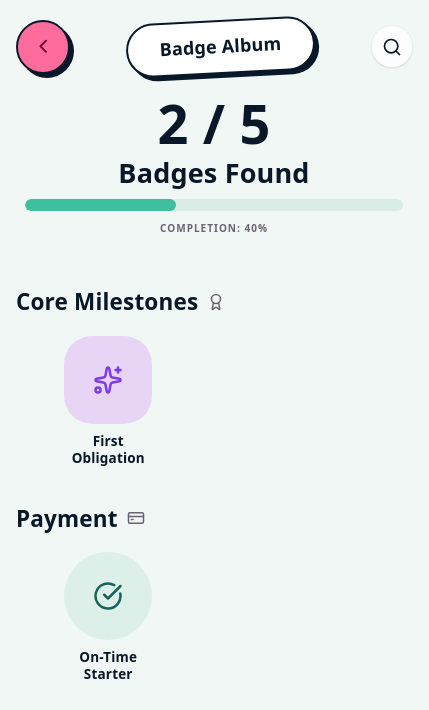
Test: StickerAlbumPage integration › navigates to detail page and renders badge name when an earned badge is tapped
The image size is (429, 710).
Click the button with aria-label "first obligation sticker, tap to view".
click(108, 401)  # box [64, 336, 152, 467]
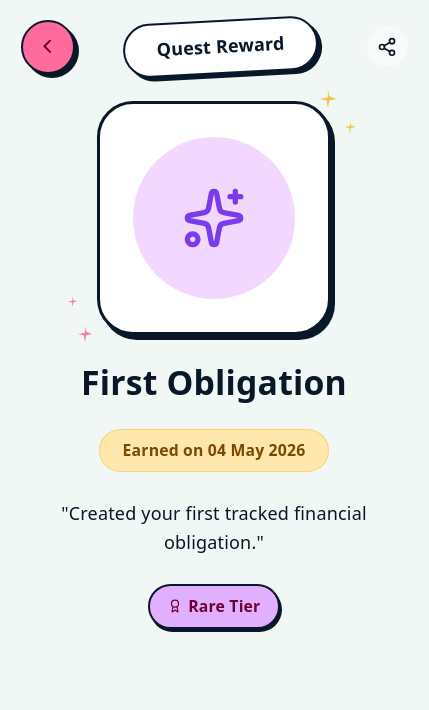
Expected: the heading "First Obligation" is shown, [81, 362, 347, 402]
Result: the heading "Quest Reward" is shown at [156, 30, 285, 63]
